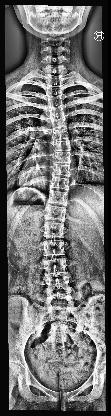Vertebrae: (47, 292, 75, 310), (44, 257, 69, 277), (44, 238, 66, 260), (45, 204, 69, 223), (44, 276, 72, 292), (43, 223, 67, 239), (46, 190, 70, 206), (50, 176, 70, 192), (52, 163, 72, 179), (52, 152, 72, 166), (51, 140, 71, 152), (50, 128, 70, 140), (50, 118, 68, 130), (46, 96, 64, 108), (48, 107, 66, 118), (46, 85, 62, 97)
